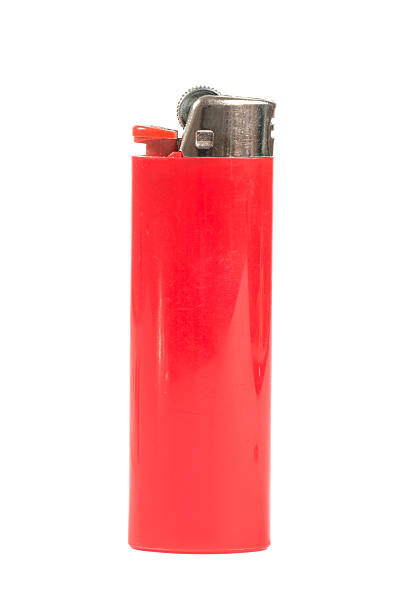Nonrec_Other: (102, 62, 294, 561)
